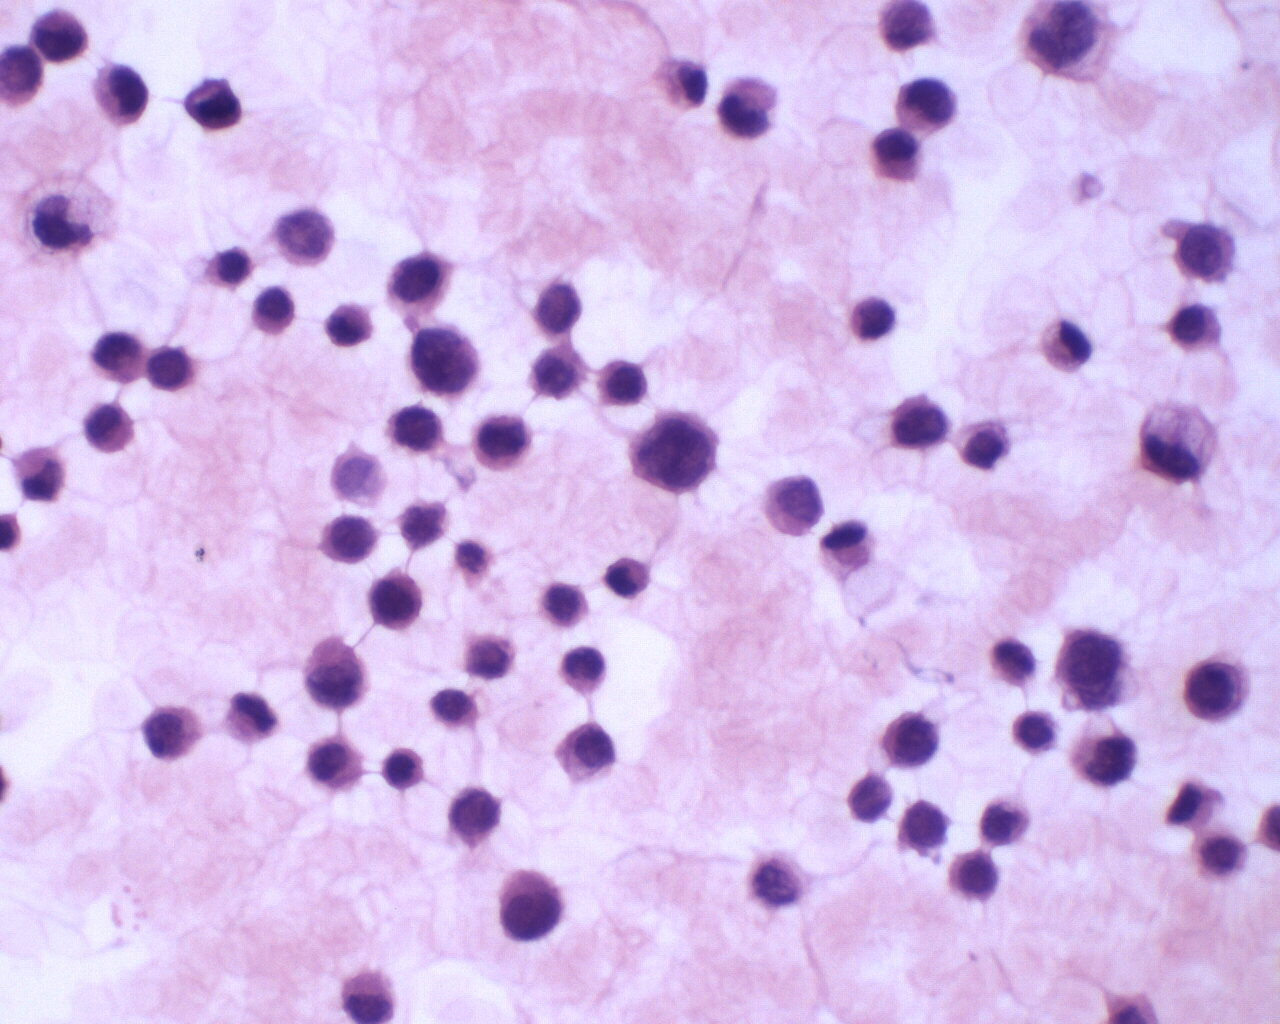ab: (627, 408, 720, 496), (495, 863, 571, 951), (1052, 620, 1130, 697), (406, 325, 486, 400), (1183, 652, 1255, 726), (299, 636, 371, 709), (1176, 216, 1243, 285), (387, 247, 453, 316), (366, 565, 429, 635), (555, 721, 622, 787), (469, 408, 535, 473), (890, 76, 962, 136), (523, 340, 590, 403), (891, 388, 953, 457), (879, 706, 944, 771), (142, 699, 205, 766), (27, 9, 91, 69), (316, 513, 380, 567), (895, 795, 949, 853), (946, 848, 1004, 900), (594, 358, 653, 409)
meso: (1165, 301, 1226, 358), (246, 282, 299, 338)
